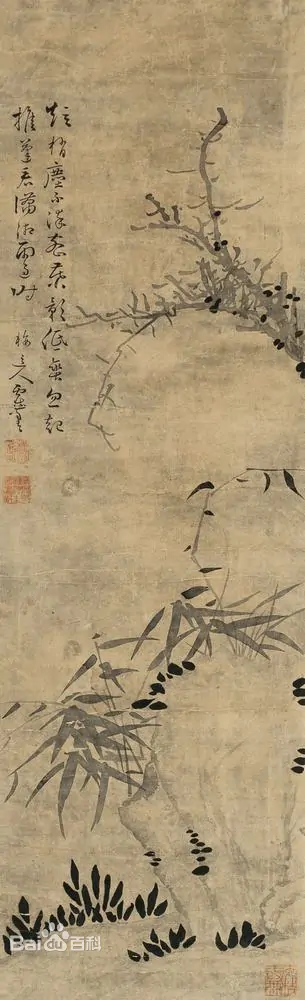bamboo: (15, 585, 302, 827)
tree: (77, 109, 305, 449)
